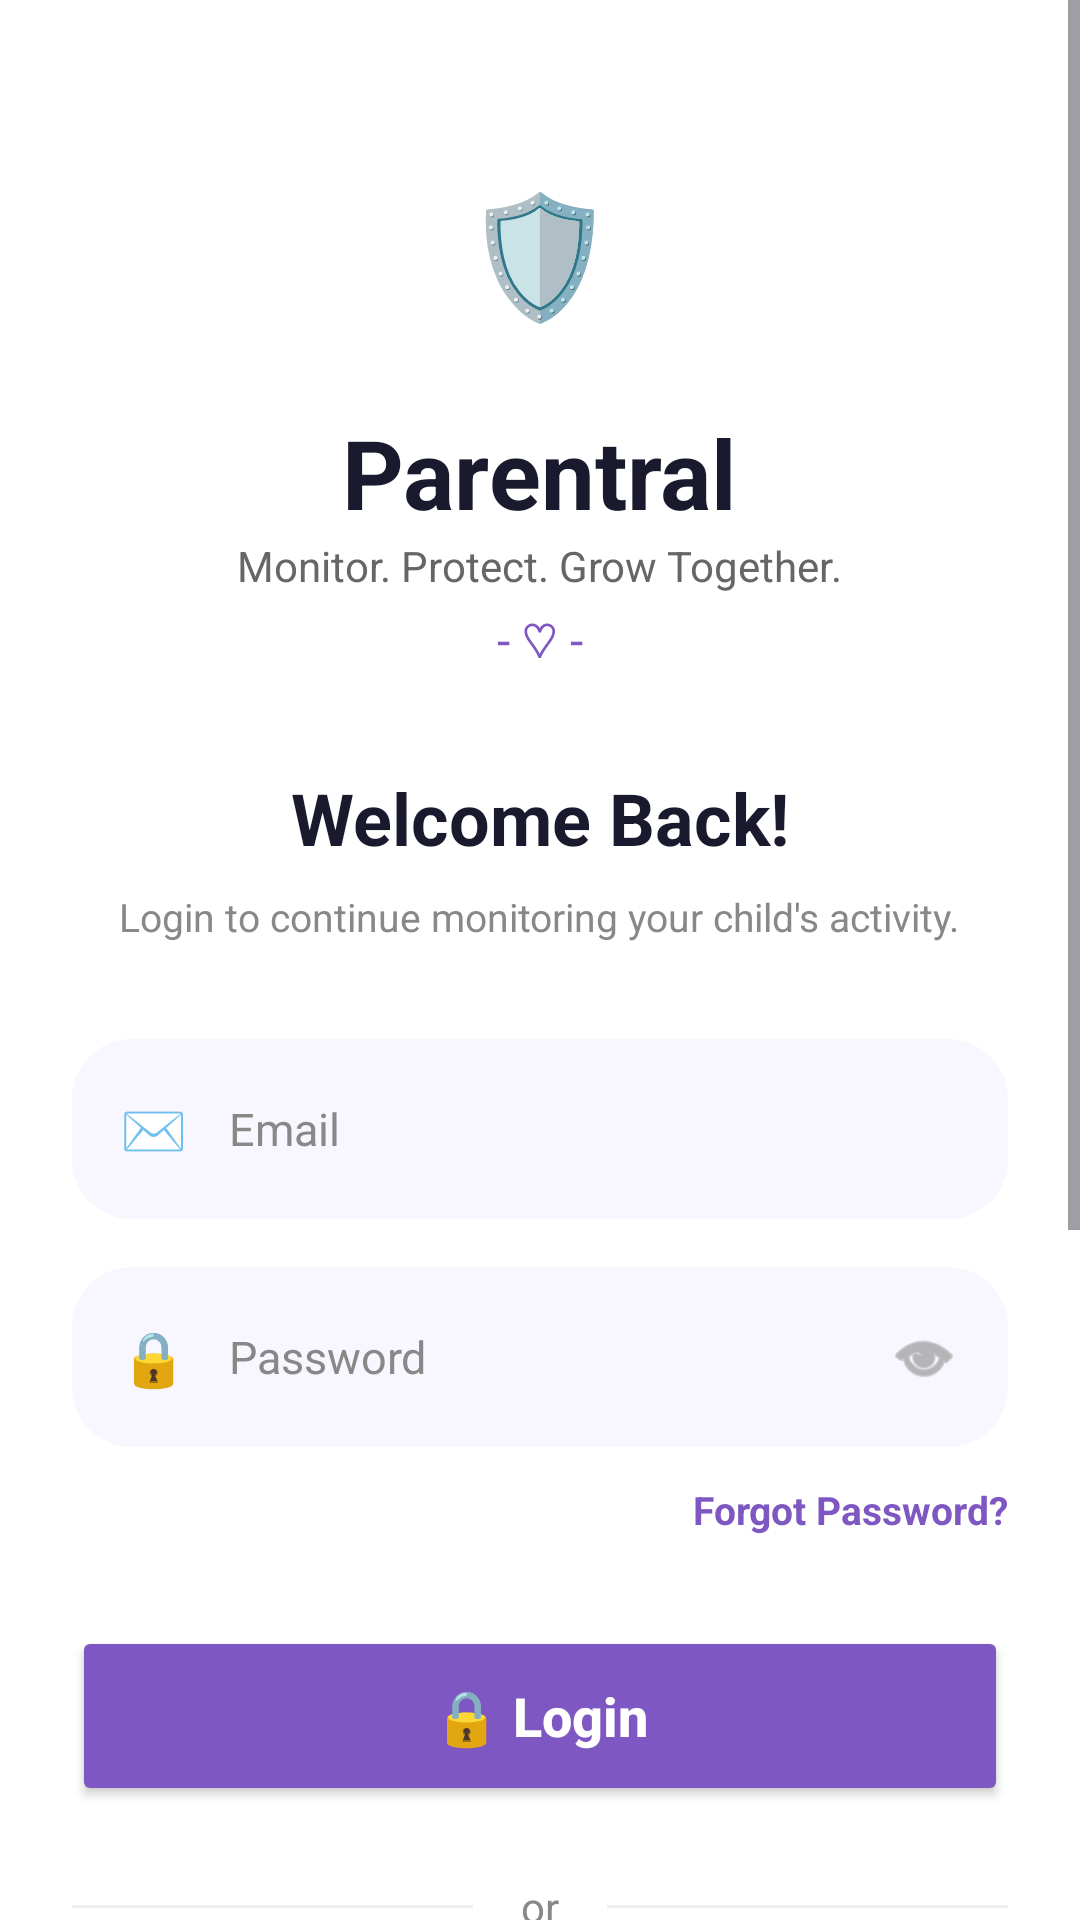

Screen size 1080w x 1920h. Icon name, then its box in pixels as (x1, y1, x2, y2):
view: (895, 1341, 953, 1377)
